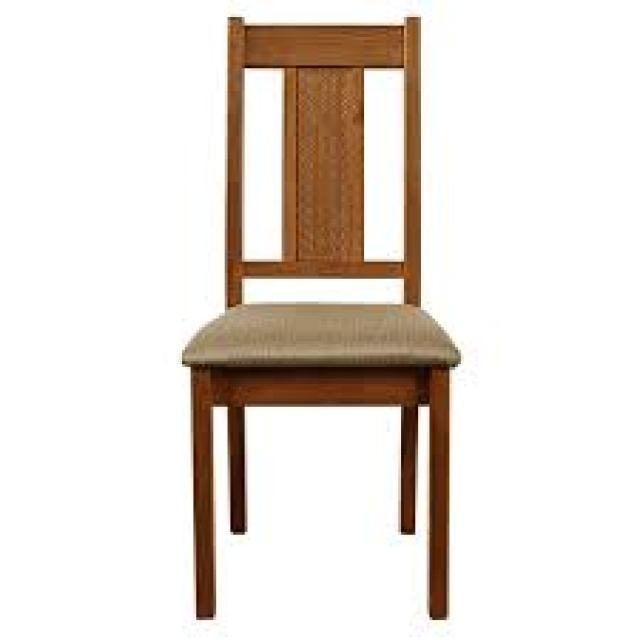bottle: (175, 11, 463, 624)
